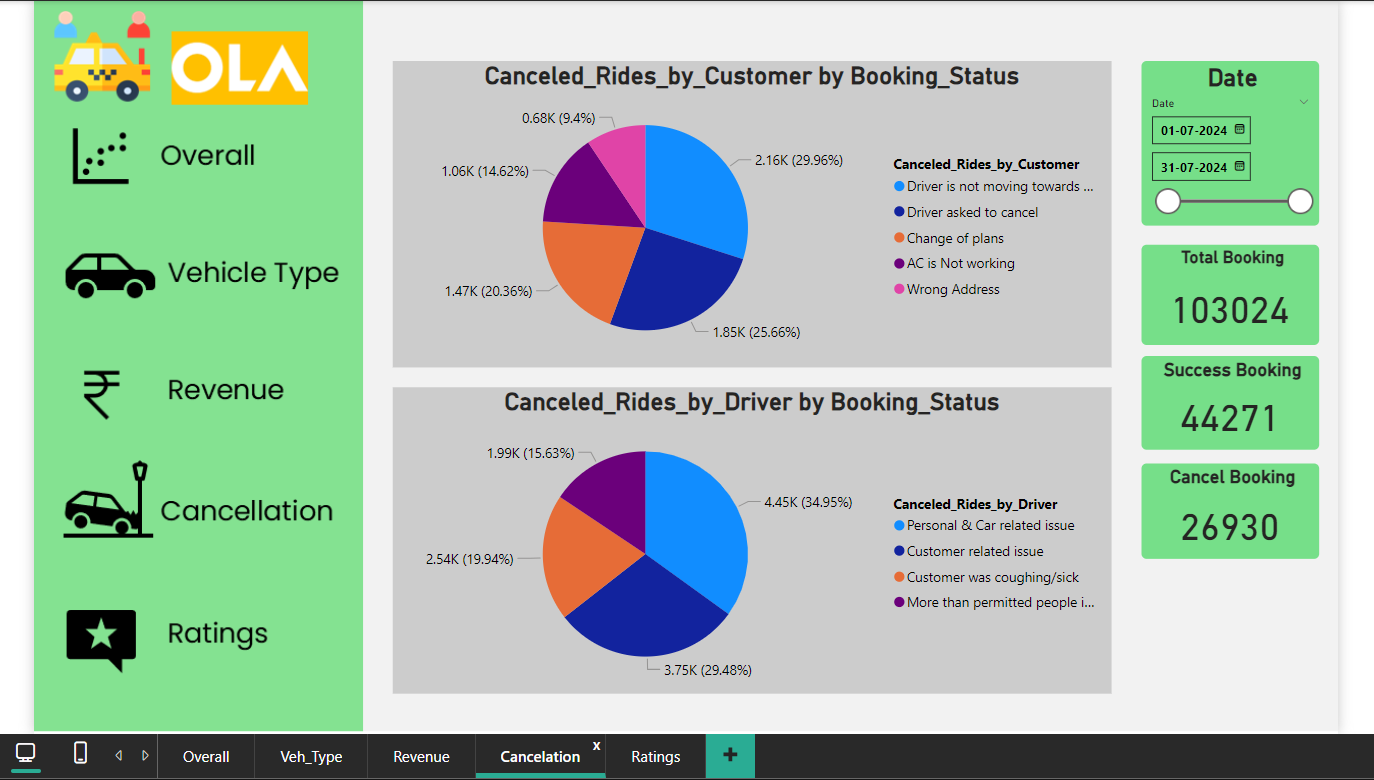

The page's visual inventory and layout, read from the dashboard file:
{"tool":"powerbi","page":{"name":"Cancelation","canvas":[1280,720],"ordinal":3},"visuals":[{"type":"actionButton","box":[0,586.5,321.5,83.4],"z":0},{"type":"actionButton","box":[0,337.4,321.5,83.4],"z":1000},{"type":"actionButton","box":[0,228.2,321.5,84.7],"z":2000},{"type":"actionButton","box":[0,105.5,321.5,84.7],"z":3000},{"type":"pieChart","title":"Canceled_Rides_by_Customer by Booking_Status","fields":{"Y":["CountNonNull(ola_booking.Canceled_Rides_by_Customer)"],"Category":["ola_booking.Canceled_Rides_by_Customer"]},"box":[352.7,59,705.3,300.5],"z":4000},{"type":"pieChart","title":"Canceled_Rides_by_Driver by Booking_Status","fields":{"Category":["ola_booking.Canceled_Rides_by_Driver"],"Y":["CountNonNull(ola_booking.Canceled_Rides_by_Driver)"]},"box":[352.7,378.7,705.3,300.5],"z":5000},{"type":"slicer","title":"Date","fields":{"Values":["ola_booking.Date"]},"box":[1086.8,59,174.3,161.9],"z":6000},{"type":"card","title":"Total Booking","fields":{"Values":["CountNonNull(ola_booking.Booking_ID)"]},"box":[1086.8,238.8,174.3,98.8],"z":7000},{"type":"card","title":"Success Booking","fields":{"Values":["CountNonNull(ola_booking.Booking_ID)"]},"box":[1086.8,348.5,174.3,91.9],"z":8000},{"type":"card","title":"Cancel Booking","fields":{"Values":["CountNonNull(ola_booking.Booking_ID)"]},"box":[1086.8,454.2,174.3,93.3],"z":9000}]}

Visuals, with their boxes on the page's 1280x720 design canvas (x1, y1, x2, y2). These are canvas units, not pixel positions in the 1374x780 screenshot, which may show the page scaled, cropped or inside an application window:
actionButton: box(0, 586, 322, 670)
actionButton: box(0, 337, 322, 421)
actionButton: box(0, 228, 322, 313)
actionButton: box(0, 106, 322, 190)
"Canceled_Rides_by_Customer by Booking_Status" pieChart: box(353, 59, 1058, 360)
"Canceled_Rides_by_Driver by Booking_Status" pieChart: box(353, 379, 1058, 679)
"Date" slicer: box(1087, 59, 1261, 221)
"Total Booking" card: box(1087, 239, 1261, 338)
"Success Booking" card: box(1087, 348, 1261, 440)
"Cancel Booking" card: box(1087, 454, 1261, 548)
